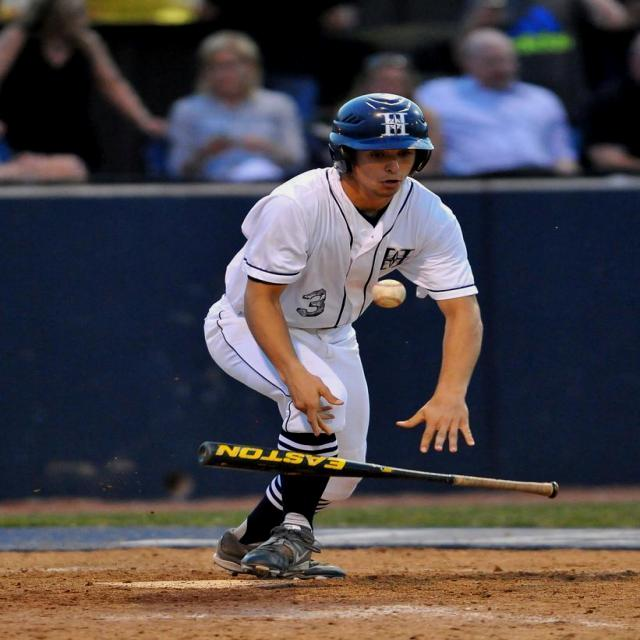ball: (372, 276, 408, 306)
